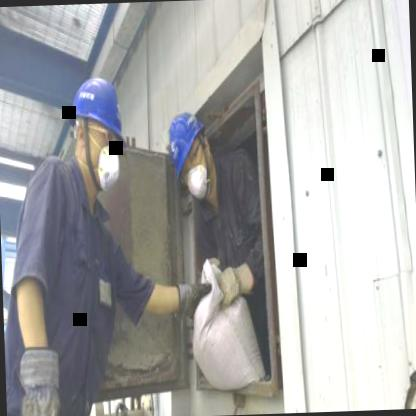helmet: (62, 66, 130, 194), (166, 96, 216, 234)
